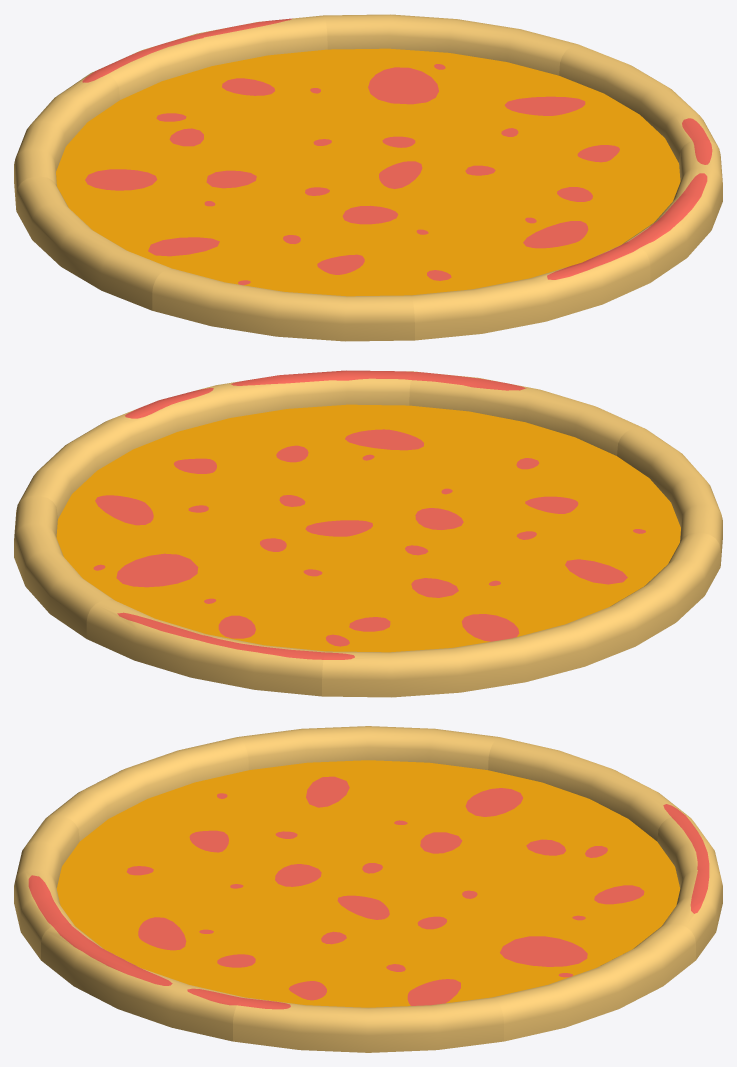
Rendered from Dough Mustard B.fbx.
3 renders of one model, top to bottom at view 1: azimuth 30°, elevation 25°; view 2: azimuth 150°, elevation 25°; view 3: azimuth 270°, elevation 25°, orthographic.
Parts seen in each view (by area): view 1: Dough.103, Dough.099, Dough.102, Dough.098, Dough.104, Dough.100, Dough.101, Dough.105; view 2: Dough.105, Dough.101, Dough.098, Dough.102, Dough.104, Dough.100, Dough.099, Dough.103; view 3: Dough.104, Dough.100, Dough.099, Dough.101, Dough.103, Dough.105, Dough.098, Dough.102.
Part boxes in pixels (bbox=[...]): Dough.103: bbox=[152, 181, 414, 341]; Dough.099: bbox=[323, 14, 577, 180]; Dough.102: bbox=[368, 181, 650, 340]; Dough.098: bbox=[96, 15, 368, 180]; Dough.104: bbox=[16, 176, 367, 310]; Dough.100: bbox=[369, 44, 718, 180]; Dough.101: bbox=[369, 140, 722, 282]; Dough.105: bbox=[14, 71, 367, 209]; Dough.105: bbox=[322, 537, 584, 697]; Dough.101: bbox=[159, 370, 413, 536]; Dough.098: bbox=[86, 537, 368, 696]; Dough.102: bbox=[368, 371, 640, 536]; Dough.104: bbox=[369, 532, 720, 666]; Dough.100: bbox=[18, 400, 367, 536]; Dough.099: bbox=[14, 496, 367, 638]; Dough.103: bbox=[369, 427, 722, 565]; Dough.104: bbox=[237, 726, 499, 891]; Dough.100: bbox=[233, 892, 503, 1052]; Dough.099: bbox=[369, 892, 695, 1041]; Dough.101: bbox=[41, 892, 367, 1041]; Dough.103: bbox=[46, 737, 367, 891]; Dough.105: bbox=[369, 737, 690, 891]; Dough.098: bbox=[369, 815, 722, 959]; Dough.102: bbox=[14, 815, 367, 959].
Size of the model in its own units: 2 by 0.1032 by 2.
